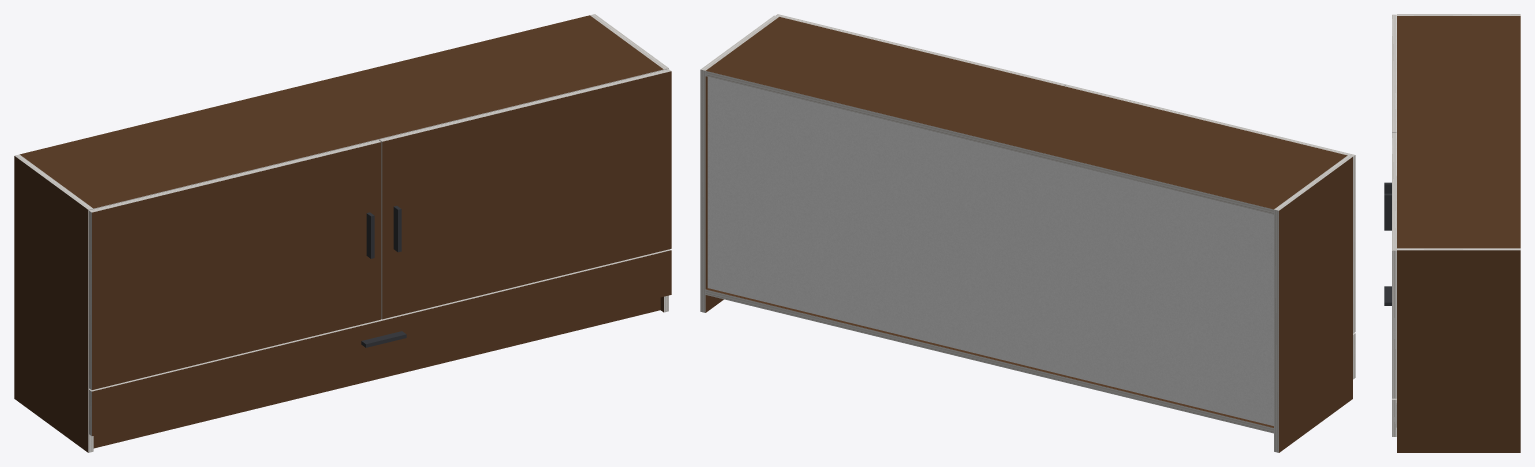
The model's file is ATL-SDB-long.glb.
3 renders of one model, left to right at view 1: azimuth 30°, elevation 25°; view 2: azimuth 150°, elevation 25°; view 3: azimuth 270°, elevation 25°, orthographic. The views are drawn at different scales.
Visible parts, largest first — view 1: door-r:pbr, door-l:pbr, top:pbr, d1-front:pbr, side-l:pbr, plinth:pbr, pull, d1-front:sheet:eyJtIjoicGx5Iiwic2lkZSI6ImVkZ2UtbG9uZyIsInNlZ, door-l:sheet:eyJtIjoicGx5Iiwic2lkZSI6ImVkZ2UtbG9uZyIsInNlZWQ, door-r:sheet:eyJtIjoicGx5Iiwic2lkZSI6ImVkZ2UtbG9uZyIsInNlZWQ, top:sheet:eyJtIjoicGx5Iiwic2lkZSI6ImVkZ2UtbG9uZyIsInNlZWQiOj; view 2: back:sheet:eyJtIjoibWRmIiwic2lkZSI6ImZhY2UiLCJzZWVkIjoyLCJ0a, top:pbr, side-l:pbr, bottom:sheet:eyJtIjoicGx5Iiwic2lkZSI6ImVkZ2UtbG9uZyIsInNlZWQ, top:sheet:eyJtIjoicGx5Iiwic2lkZSI6ImVkZ2UtbG9uZyIsInNlZWQiOj, side-r:sheet:eyJtIjoicGx5Iiwic2lkZSI6ImVkZ2UtbG9uZyIsInNlZWQ, bottom:pbr, side-l:sheet:eyJtIjoicGx5Iiwic2lkZSI6ImVkZ2UtbG9uZyIsInNlZWQ, door-l:sheet:eyJtIjoicGx5Iiwic2lkZSI6ImVkZ2UtbG9uZyIsInNlZWQ, door-r:sheet:eyJtIjoicGx5Iiwic2lkZSI6ImVkZ2UtbG9uZyIsInNlZWQ, side-r:pbr; view 3: top:pbr, side-r:pbr, door-r:sheet:eyJtIjoicGx5Iiwic2lkZSI6ImVkZ2UtZW5kIiwic2VlZCI, door-l:sheet:eyJtIjoicGx5Iiwic2lkZSI6ImVkZ2UtbG9uZyIsInNlZWQ, door-r:sheet:eyJtIjoicGx5Iiwic2lkZSI6ImVkZ2UtbG9uZyIsInNlZWQ, pull, side-r:sheet:eyJtIjoicGx5Iiwic2lkZSI6ImVkZ2UtZW5kIiwic2VlZCI, side-l:sheet:eyJtIjoicGx5Iiwic2lkZSI6ImVkZ2UtZW5kIiwic2VlZCI, d1-box-front:sheet:eyJtIjoicGx5Iiwic2lkZSI6ImVkZ2UtbG9uZyIsI, d1-front:sheet:eyJtIjoicGx5Iiwic2lkZSI6ImVkZ2UtZW5kIiwic2VlZ.
Part boxes in pixels (x1,y1,x2,y2): door-r:pbr: (382,71,671,319); door-l:pbr: (92,142,381,389); top:pbr: (20,15,663,208); d1-front:pbr: (92,250,671,435); side-l:pbr: (14,156,88,452); plinth:pbr: (93,297,660,448); pull: (361,206,406,347); d1-front:sheet:eyJtIjoicGx5Iiwic2lkZSI6ImVkZ2UtbG9uZyIsInNlZ: (89,249,671,391); door-l:sheet:eyJtIjoicGx5Iiwic2lkZSI6ImVkZ2UtbG9uZyIsInNlZWQ: (89,140,380,212); door-r:sheet:eyJtIjoicGx5Iiwic2lkZSI6ImVkZ2UtbG9uZyIsInNlZWQ: (380,69,671,141); top:sheet:eyJtIjoicGx5Iiwic2lkZSI6ImVkZ2UtbG9uZyIsInNlZWQiOj: (94,69,663,209); back:sheet:eyJtIjoibWRmIiwic2lkZSI6ImZhY2UiLCJzZWVkIjoyLCJ0a: (707,77,1273,425); top:pbr: (706,17,1347,209); side-l:pbr: (1279,157,1352,452); bottom:sheet:eyJtIjoicGx5Iiwic2lkZSI6ImVkZ2UtbG9uZyIsInNlZWQ: (705,289,1273,433); top:sheet:eyJtIjoicGx5Iiwic2lkZSI6ImVkZ2UtbG9uZyIsInNlZWQiOj: (705,71,1273,214); side-r:sheet:eyJtIjoicGx5Iiwic2lkZSI6ImVkZ2UtbG9uZyIsInNlZWQ: (700,69,705,312); bottom:pbr: (706,288,1273,427); side-l:sheet:eyJtIjoicGx5Iiwic2lkZSI6ImVkZ2UtbG9uZyIsInNlZWQ: (1274,209,1278,452); door-l:sheet:eyJtIjoicGx5Iiwic2lkZSI6ImVkZ2UtbG9uZyIsInNlZWQ: (1065,84,1354,156); door-r:sheet:eyJtIjoicGx5Iiwic2lkZSI6ImVkZ2UtbG9uZyIsInNlZWQ: (775,14,1065,85); side-r:pbr: (705,76,723,312); top:pbr: (1397,16,1520,248); side-r:pbr: (1397,250,1520,452); door-r:sheet:eyJtIjoicGx5Iiwic2lkZSI6ImVkZ2UtZW5kIiwic2VlZCI: (1392,250,1396,398); door-l:sheet:eyJtIjoicGx5Iiwic2lkZSI6ImVkZ2UtbG9uZyIsInNlZWQ: (1392,14,1396,132); door-r:sheet:eyJtIjoicGx5Iiwic2lkZSI6ImVkZ2UtbG9uZyIsInNlZWQ: (1392,133,1396,250); pull: (1384,182,1391,305); side-r:sheet:eyJtIjoicGx5Iiwic2lkZSI6ImVkZ2UtZW5kIiwic2VlZCI: (1397,248,1520,250); side-l:sheet:eyJtIjoicGx5Iiwic2lkZSI6ImVkZ2UtZW5kIiwic2VlZCI: (1397,14,1520,15); d1-box-front:sheet:eyJtIjoicGx5Iiwic2lkZSI6ImVkZ2UtbG9uZyIsI: (1396,178,1396,402); d1-front:sheet:eyJtIjoicGx5Iiwic2lkZSI6ImVkZ2UtZW5kIiwic2VlZ: (1392,400,1396,436).
Bounding box in the file's own units: 2 × 0.8 × 0.4869.
55 materials, 42 textured.
